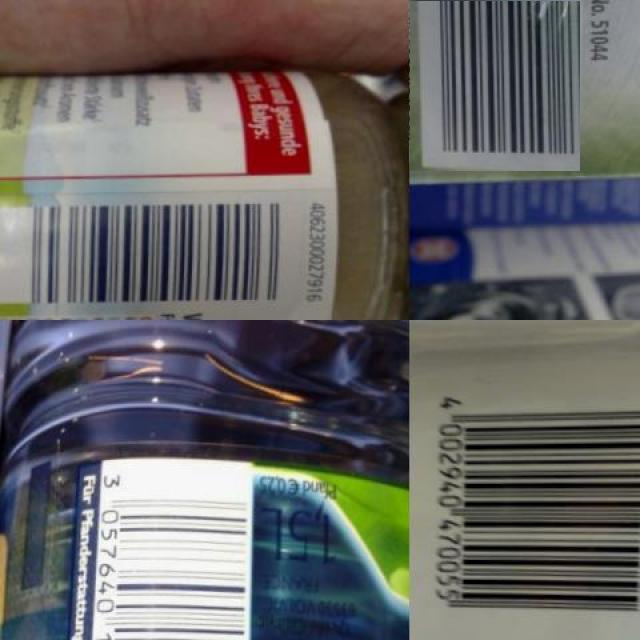Barcode: (409, 381, 640, 640), (0, 192, 292, 313), (81, 459, 251, 640), (409, 0, 581, 171)
